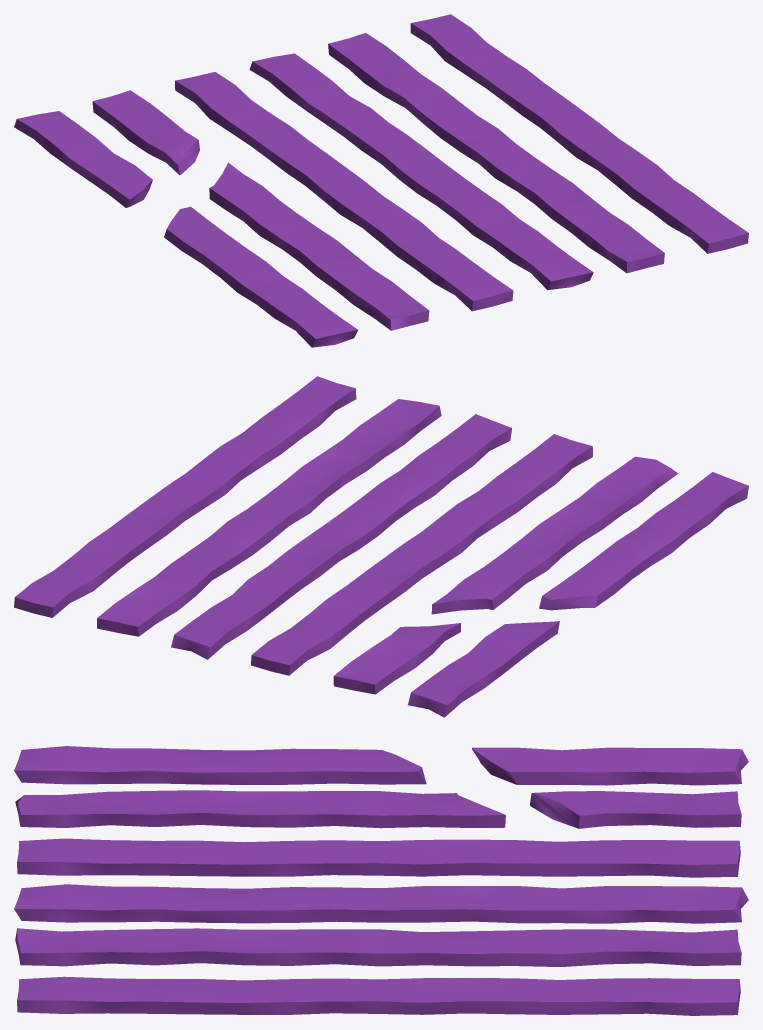
File: Path.glb
3 views of the same model, one above another, from view 1: azimuth 30°, elevation 25°; view 2: azimuth 150°, elevation 25°; view 3: azimuth 270°, elevation 25° (orthographic). The views are drawn at different scales.
Parts seen in each view (by area): view 1: Box008, Box009, Box022, Box007, Box021, Box020; view 2: Box008, Box009, Box022, Box007, Box021, Box020; view 3: Box007, Box022, Box009, Box008, Box020, Box021.
Part boxes in pixels (x1=…): Box008: x1=328, y1=33, x2=664, y2=273; Box009: x1=410, y1=14, x2=748, y2=253; Box022: x1=175, y1=72, x2=513, y2=311; Box007: x1=249, y1=53, x2=593, y2=290; Box021: x1=92, y1=90, x2=429, y2=330; Box020: x1=14, y1=111, x2=357, y2=347; Box008: x1=97, y1=399, x2=441, y2=636; Box009: x1=14, y1=376, x2=356, y2=617; Box022: x1=251, y1=434, x2=592, y2=675; Box007: x1=171, y1=414, x2=511, y2=659; Box021: x1=333, y1=456, x2=678, y2=694; Box020: x1=408, y1=472, x2=748, y2=717; Box007: x1=14, y1=884, x2=748, y2=923; Box022: x1=17, y1=838, x2=740, y2=877; Box009: x1=17, y1=976, x2=740, y2=1015; Box008: x1=15, y1=928, x2=741, y2=966; Box020: x1=14, y1=746, x2=748, y2=785; Box021: x1=15, y1=790, x2=741, y2=828.
Bounding box in the file's own units: 1.04 × 0.0323 × 1.27.
